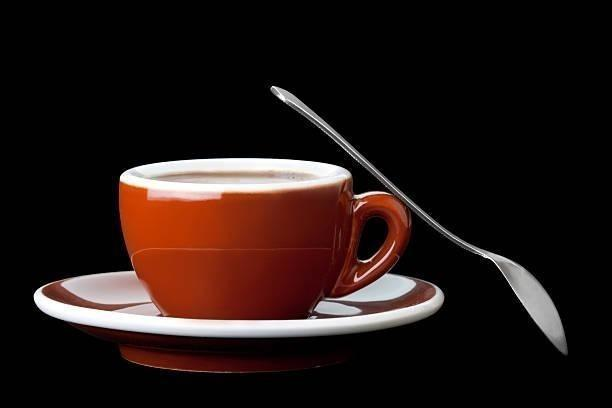cup-handle: (117, 156, 412, 321)
